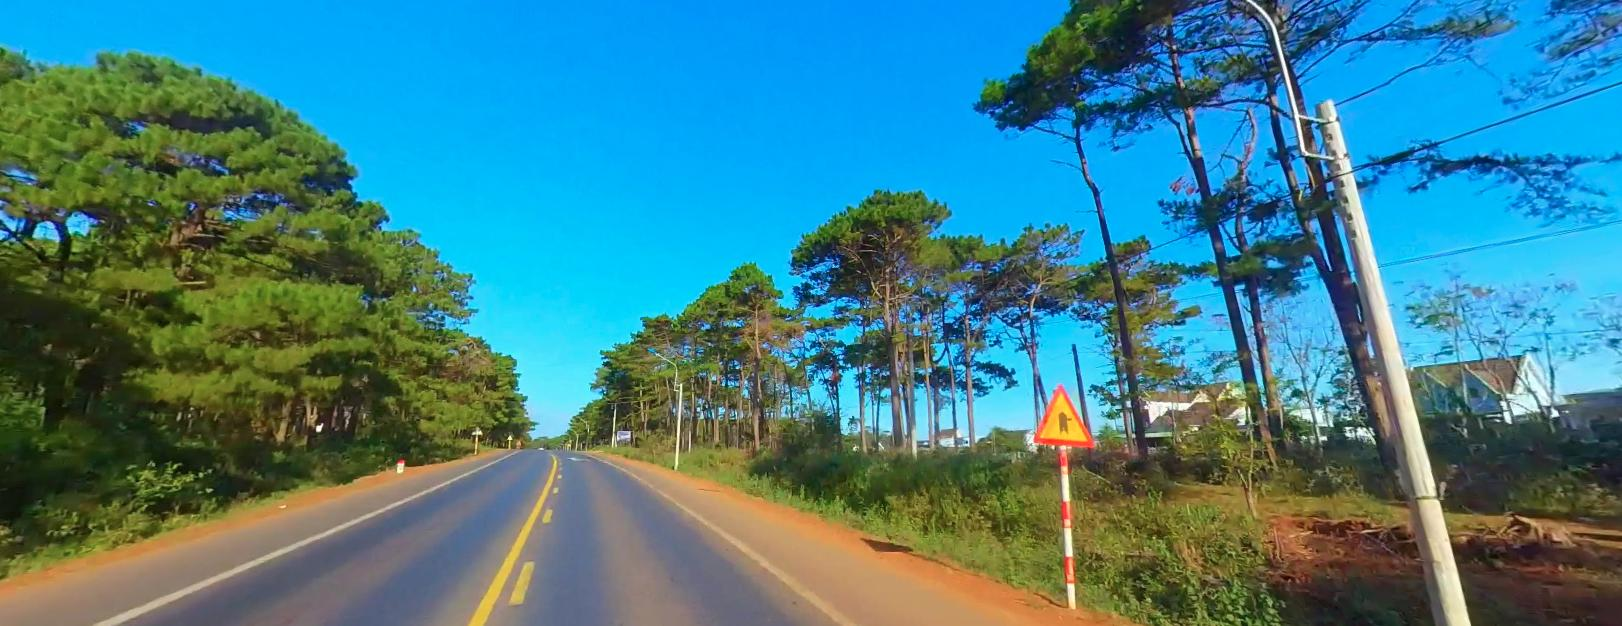Nguy hiem: (1035, 382, 1097, 447), (1032, 382, 1093, 446), (1037, 382, 1095, 447)
